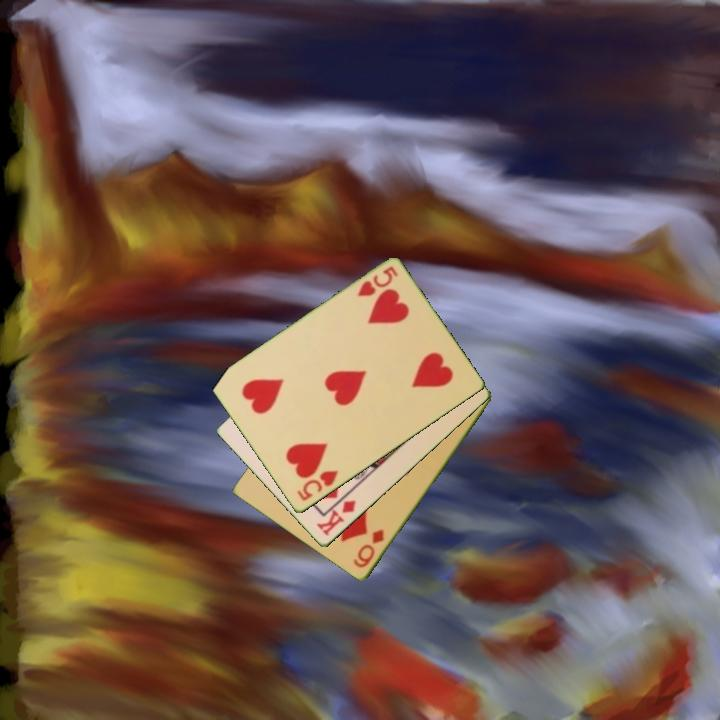5h: (293, 467, 341, 504), (353, 263, 401, 300)
6d: (350, 526, 387, 571)
Kd: (313, 497, 359, 539)
